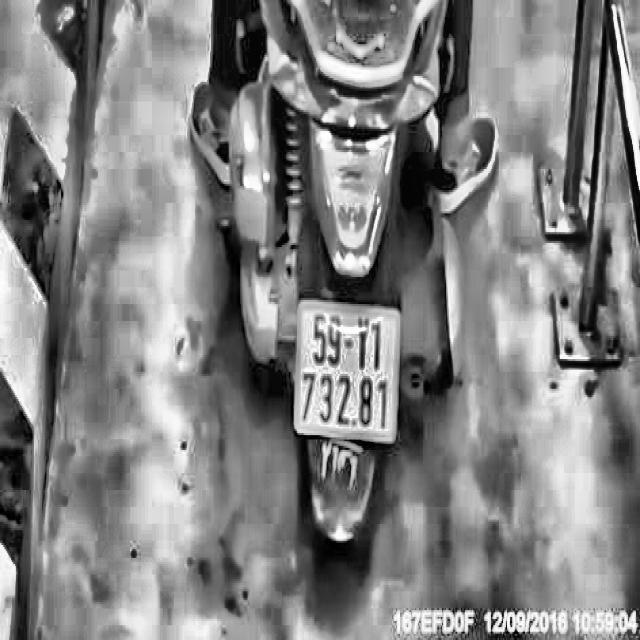plate: (292, 290, 405, 452)
